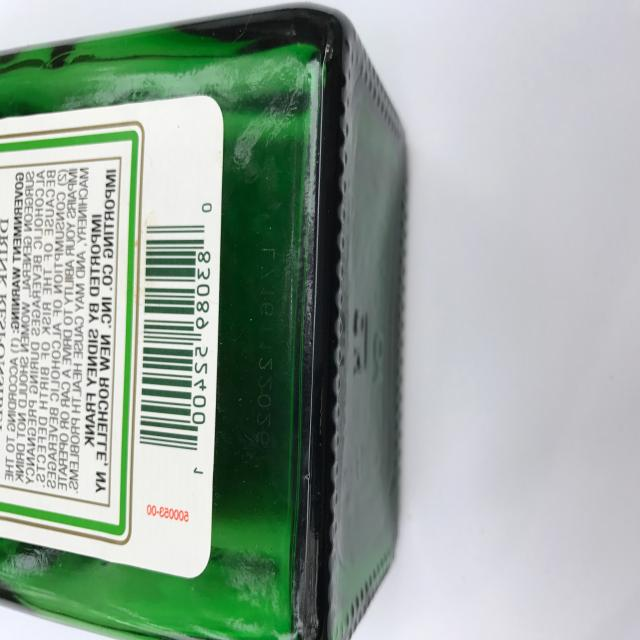glass: (0, 2, 409, 640)
